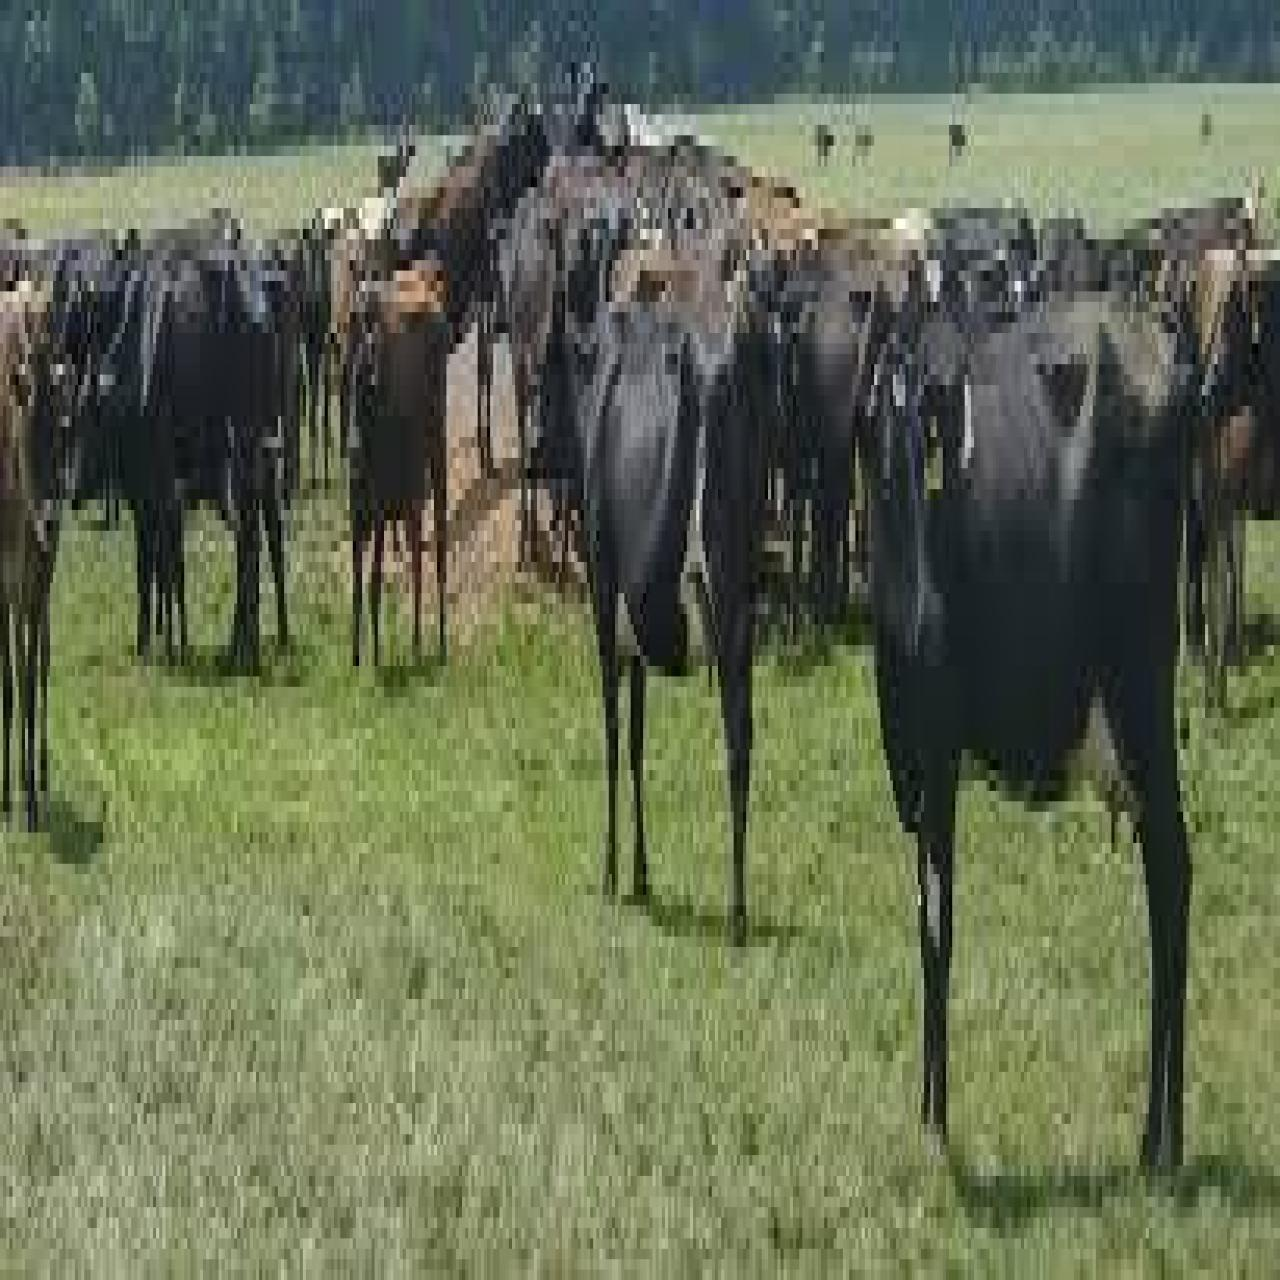cow: (862, 307, 1203, 1171), (537, 301, 771, 937), (79, 234, 300, 651), (333, 297, 463, 672), (0, 266, 81, 828)
